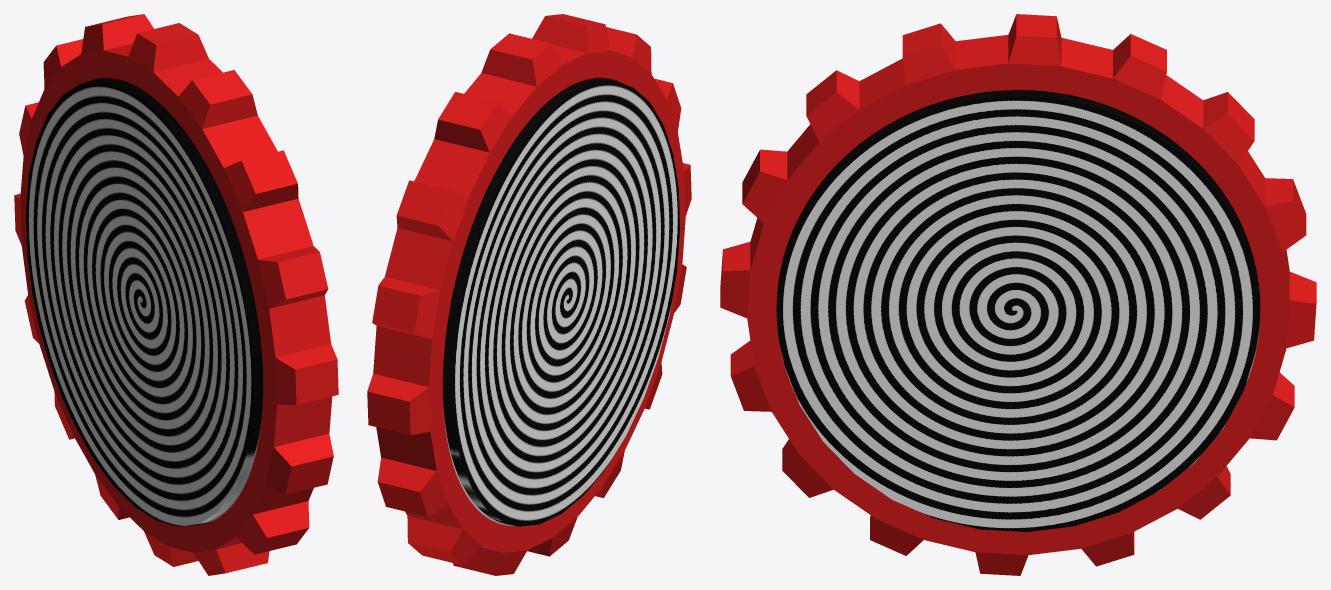
Rendered from SmallGear.fbx.
3 renders of one model, left to right at view 1: azimuth 30°, elevation 25°; view 2: azimuth 150°, elevation 25°; view 3: azimuth 270°, elevation 25°, orthographic. The views are drawn at different scales.
Parts seen in each view (by area): view 1: SmallGear; view 2: SmallGear; view 3: SmallGear.
Part boxes in pixels (box(x1,y1,x2,y2)): SmallGear: box(14, 14, 338, 575); SmallGear: box(367, 14, 691, 575); SmallGear: box(720, 14, 1316, 575).
Bounding box in the file's own units: 32.91 × 220 × 220.
1 material, 1 textured.
